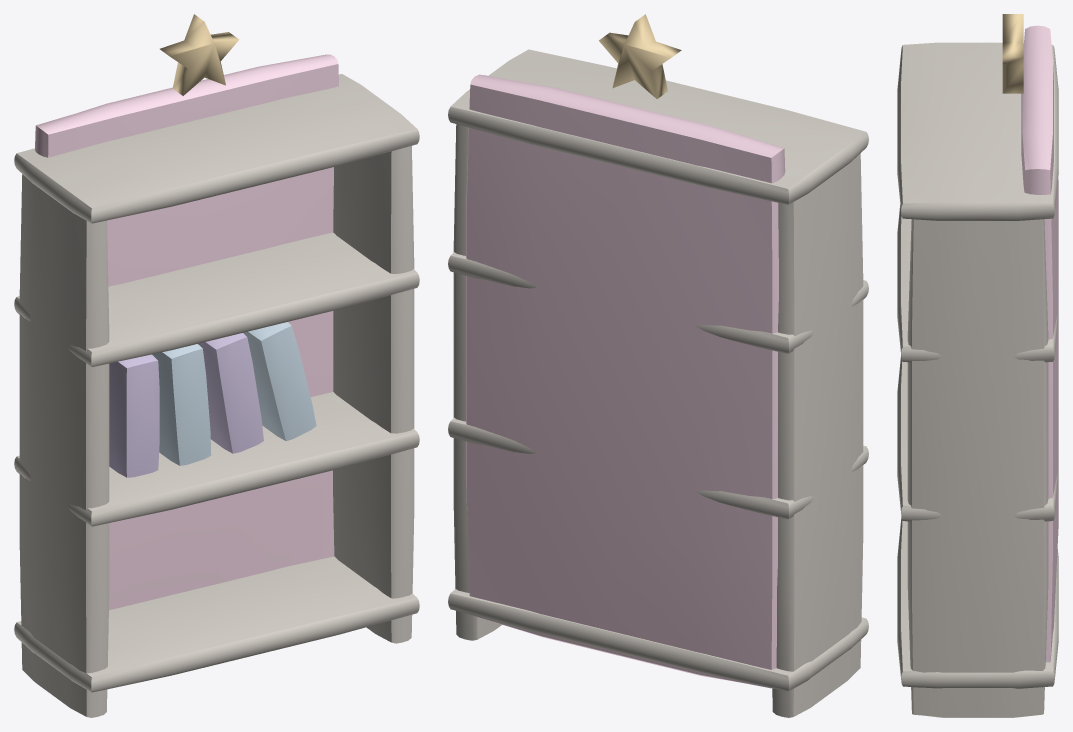
File: display_shelf.glb
3 renders of one model, left to right at view 1: azimuth 30°, elevation 25°; view 2: azimuth 150°, elevation 25°; view 3: azimuth 270°, elevation 25°, orthographic. The views are drawn at different scales.
Visible parts, largest first — view 1: shelf board (×4), shelf side (×2), back, book (×4), crest star; view 2: back, shelf side (×2), shelf board (×4), crest star; view 3: shelf side, shelf board (×4), back, crest star.
Boxes of the visible parts, x1,y1,x2,y2 form: shelf board (×4): [14, 74, 419, 692]; shelf side (×2): [19, 146, 414, 717]; back: [35, 54, 338, 610]; book (×4): [109, 322, 316, 477]; crest star: [160, 14, 239, 95]; back: [466, 74, 785, 688]; shelf side (×2): [453, 124, 863, 717]; shelf board (×4): [448, 49, 868, 691]; crest star: [599, 14, 681, 98]; shelf side: [907, 219, 1048, 717]; shelf board (×4): [897, 42, 1058, 688]; back: [1021, 25, 1058, 662]; crest star: [1002, 14, 1023, 93].
Size of the model in its own units: 1.1 by 1.97 by 0.46.
